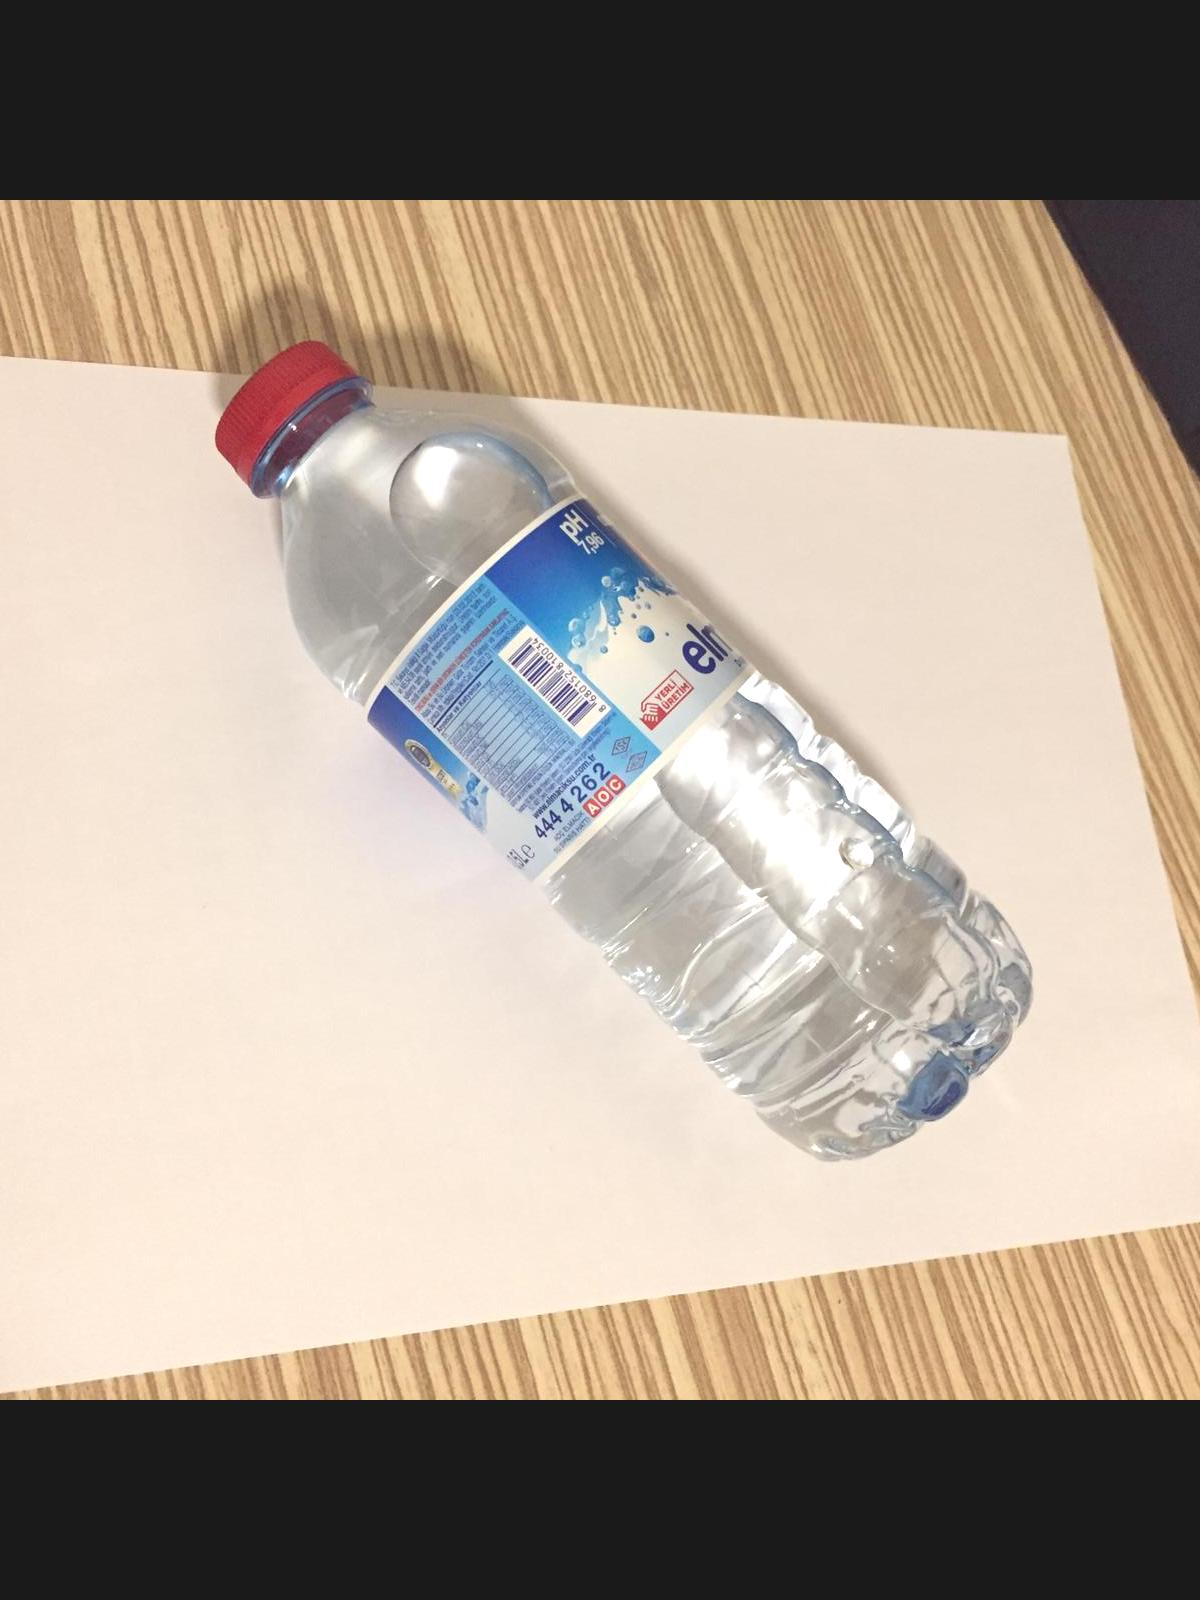bottle: (211, 341, 1036, 1157)
